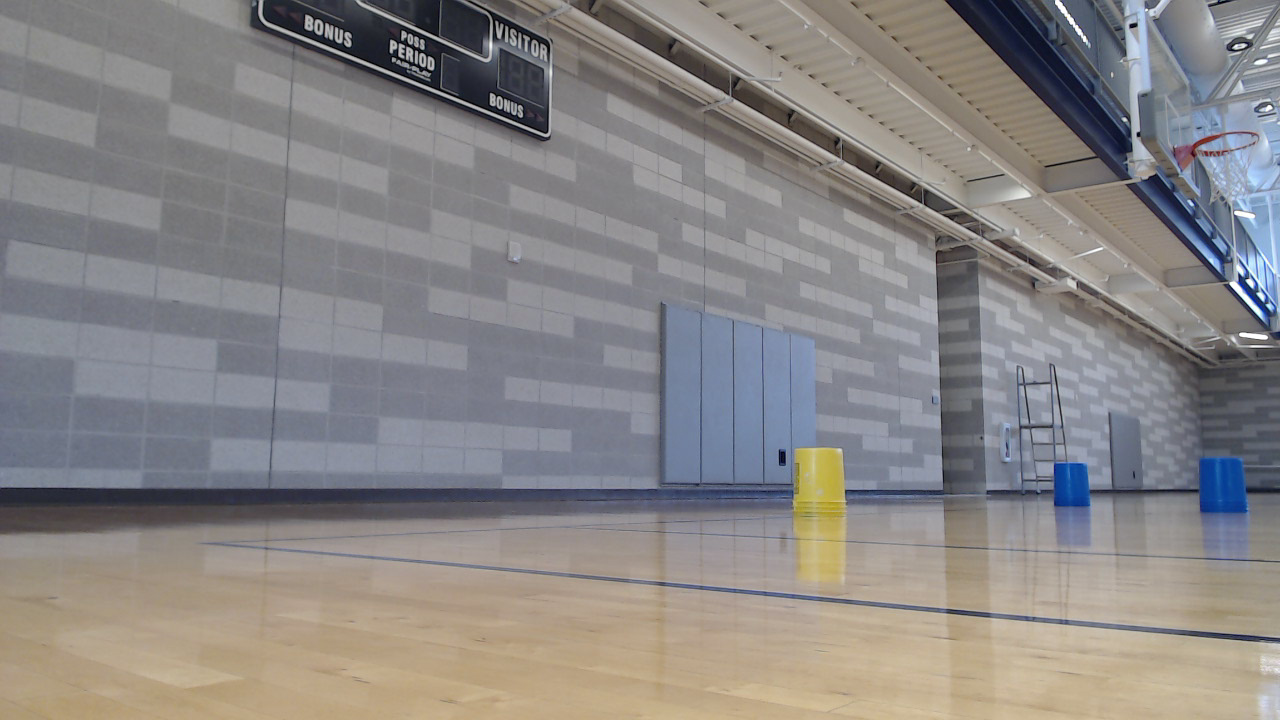blue_bucket: (1197, 458, 1257, 523), (1052, 463, 1099, 516)
yellow_bucket: (791, 448, 857, 529)
